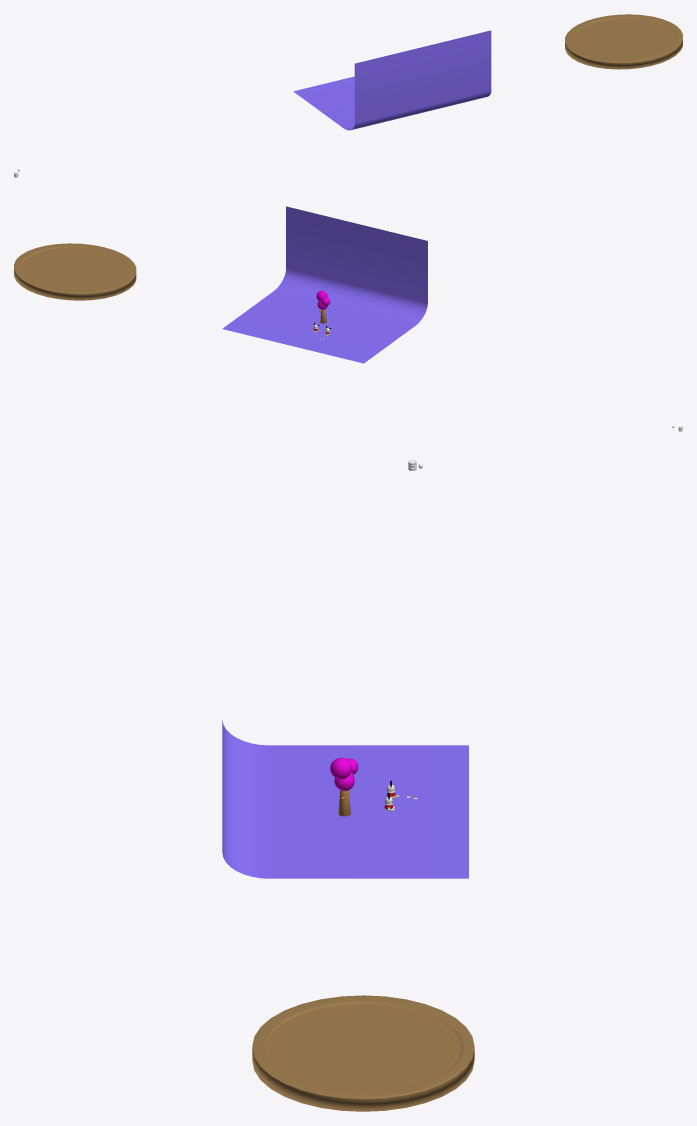
The model's file is pochacco.glb.
The picture shows the model from 3 angles, top to bottom: view 1: azimuth 30°, elevation 25°; view 2: azimuth 150°, elevation 25°; view 3: azimuth 270°, elevation 25°; orthographic projection. The views are drawn at different scales.
Visible parts, largest first — view 1: Plane, Cylinder.004; view 2: Plane, Cylinder.004; view 3: Plane, Cylinder.004.
Boxes of the visible parts, x1=… form: Plane: x1=293, y1=30, x2=491, y2=130; Cylinder.004: x1=565, y1=14, x2=682, y2=69; Plane: x1=222, y1=206, x2=427, y2=363; Cylinder.004: x1=14, y1=243, x2=136, y2=300; Plane: x1=222, y1=720, x2=468, y2=878; Cylinder.004: x1=252, y1=995, x2=474, y2=1111.
Bounding box in the file's own units: 621 × 74.89 × 104.
